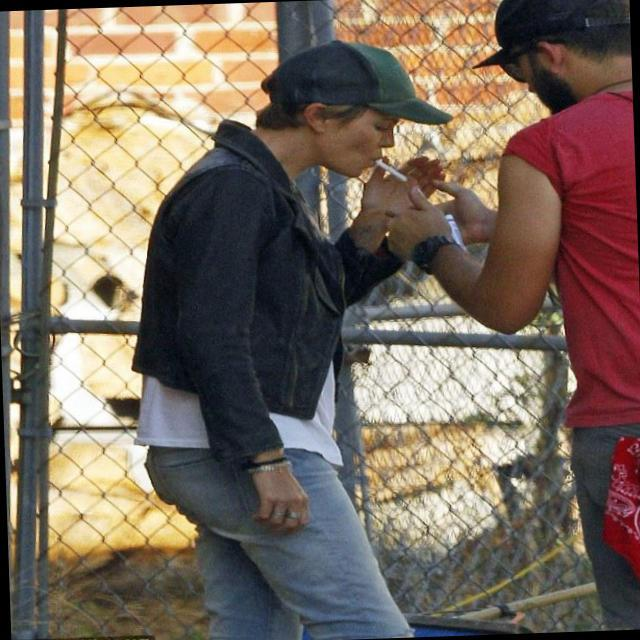cigarette: (362, 152, 418, 192)
